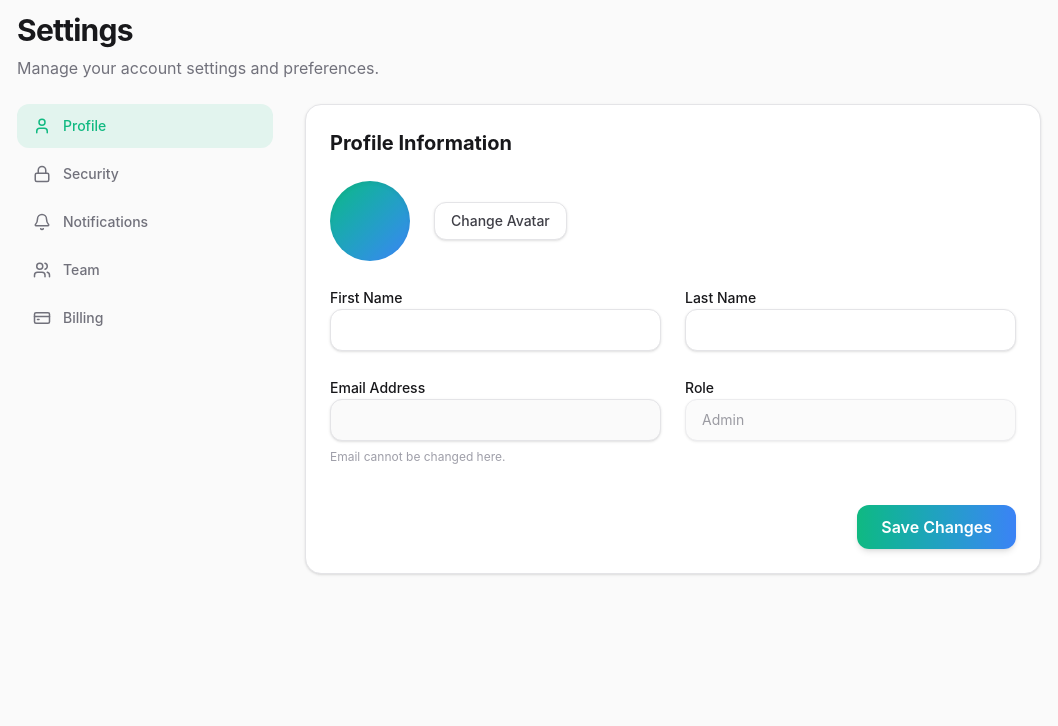
Test: Settings Page › switches between tabs
The image size is (1058, 726).
Click the button "Security".
click(145, 174)  # box [17, 152, 273, 196]
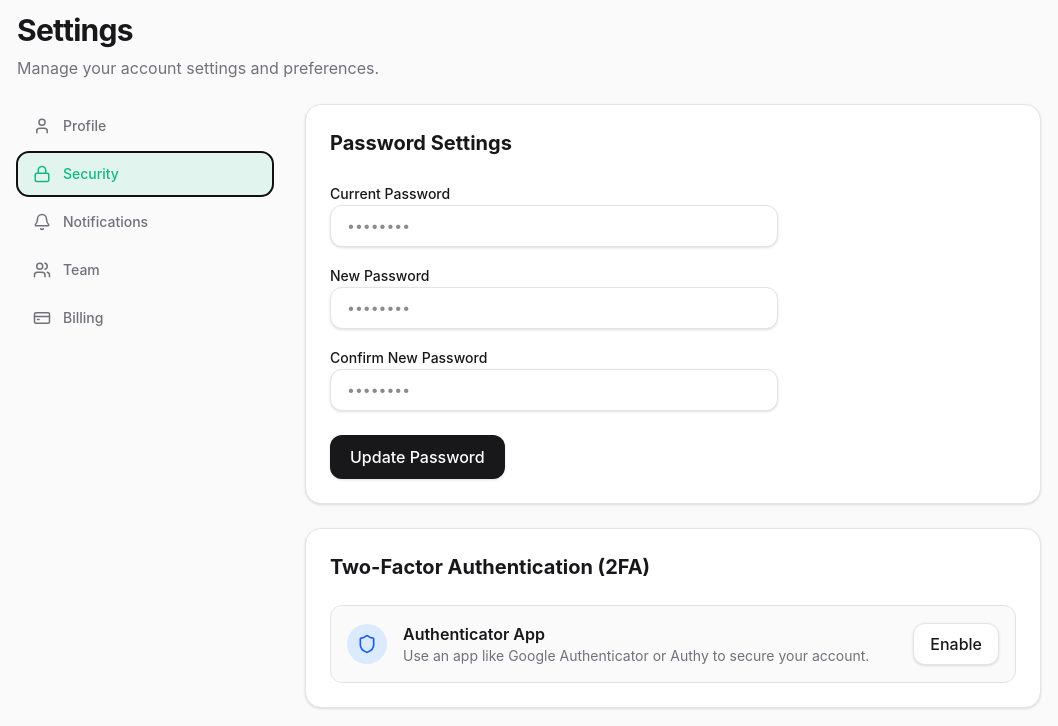
Expected: the heading "Password Settings" is shown, [330, 131, 512, 155]
Click the button "Notifications".
click(145, 222)  # box [17, 200, 273, 244]
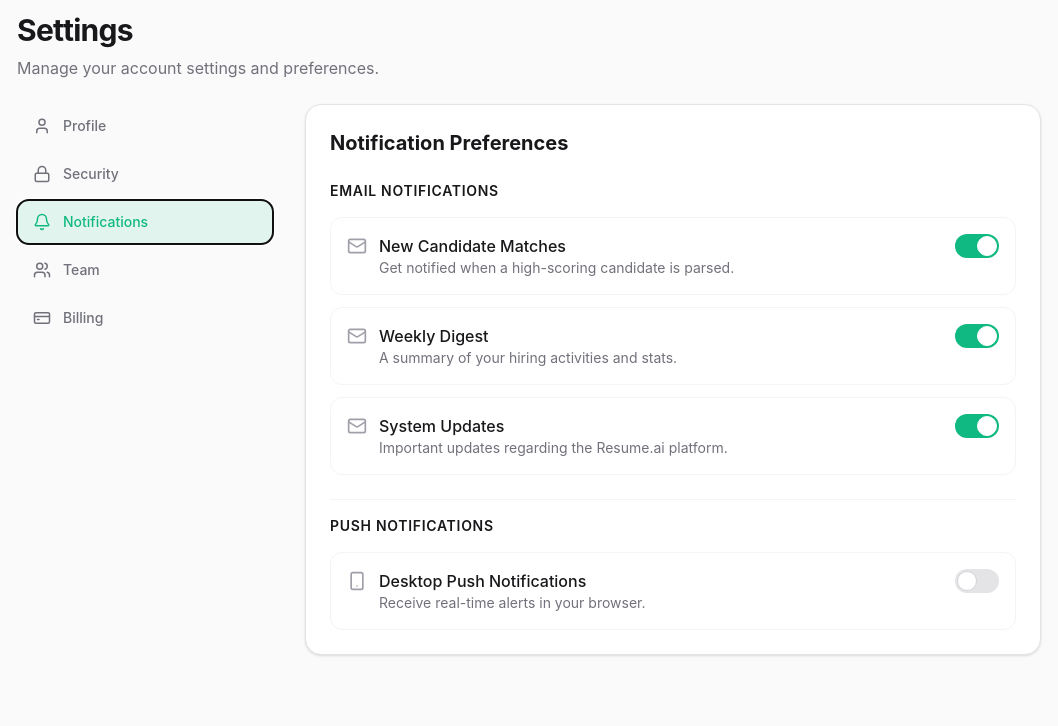
Expected: the heading "Notification Preferences" is shown, [330, 131, 568, 155]
